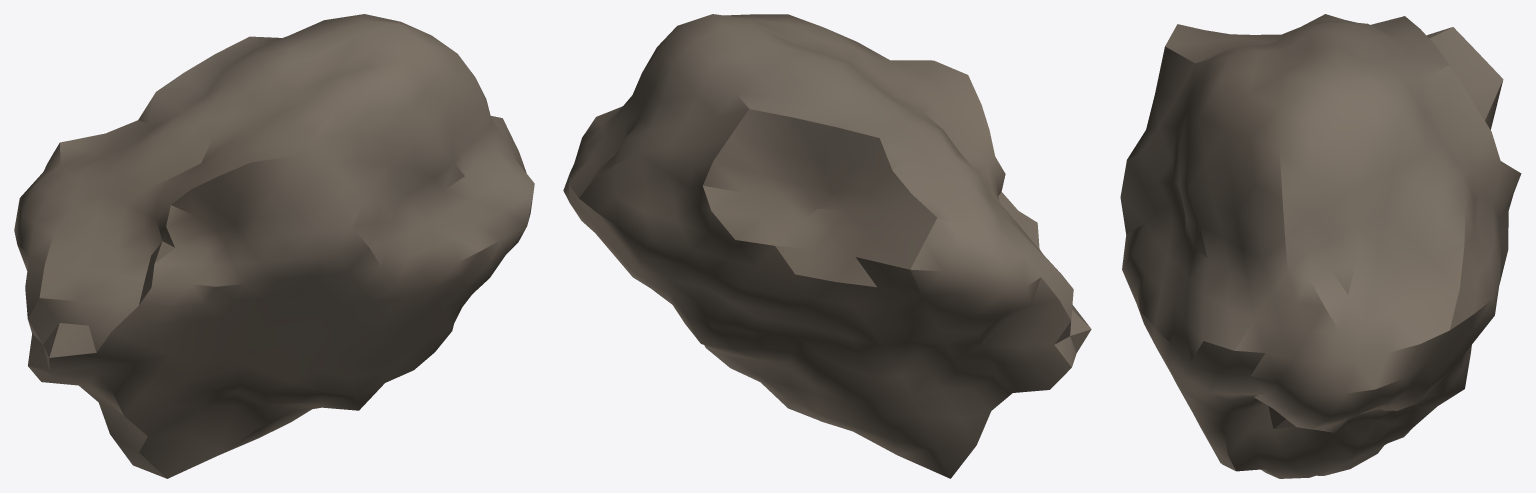
The model's file is asteroid_rock_03.glb.
3 views of the same model, side by side, from view 1: azimuth 30°, elevation 25°; view 2: azimuth 150°, elevation 25°; view 3: azimuth 270°, elevation 25° (orthographic). The views are drawn at different scales.
Parts seen in each view (by area): view 1: asteroid_rock_03; view 2: asteroid_rock_03; view 3: asteroid_rock_03.
Part boxes in pixels (x1=…): asteroid_rock_03: x1=14, y1=14, x2=534, y2=478; asteroid_rock_03: x1=563, y1=14, x2=1091, y2=478; asteroid_rock_03: x1=1120, y1=14, x2=1521, y2=478.
Size of the model in its own units: 2.91 by 2.25 by 1.64.
